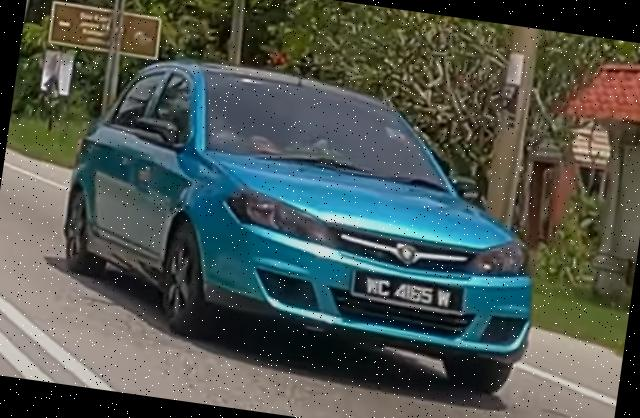License_Plate: (347, 268, 465, 317)
car: (47, 41, 563, 399)
